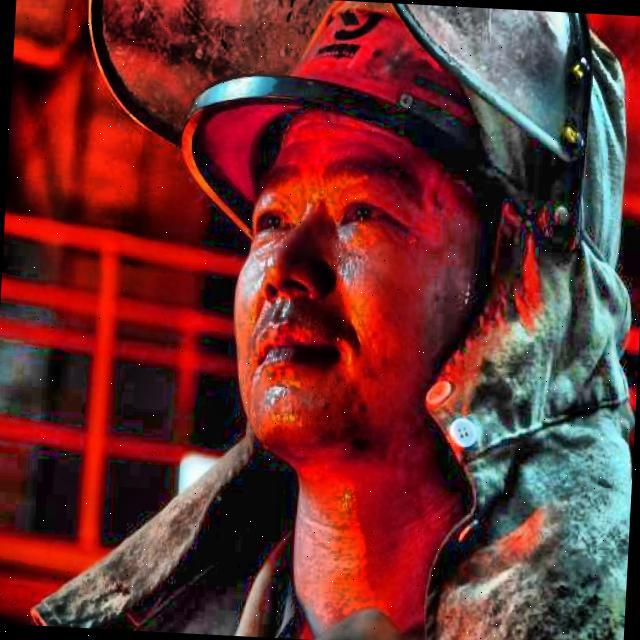helmet: (164, 0, 625, 517)
